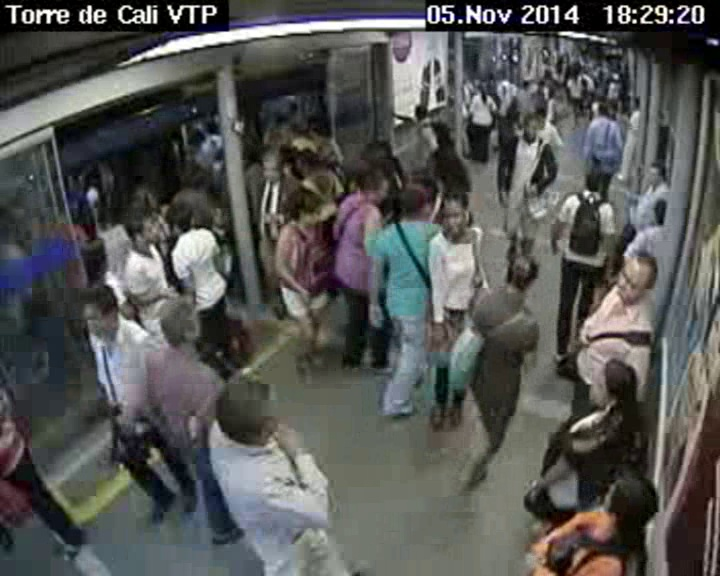person: (206, 369, 281, 451), (596, 465, 661, 532), (584, 352, 644, 413), (71, 279, 123, 348), (155, 295, 206, 358), (608, 250, 657, 302), (434, 187, 475, 245), (500, 251, 545, 294), (281, 186, 326, 229), (76, 234, 112, 279), (394, 180, 438, 216), (122, 211, 160, 250), (163, 200, 195, 239), (362, 163, 394, 202), (260, 146, 289, 181), (434, 123, 461, 156), (299, 147, 323, 179), (643, 158, 668, 185), (520, 112, 542, 141), (304, 122, 332, 144), (652, 197, 671, 224), (580, 165, 598, 193), (411, 102, 431, 121), (596, 102, 611, 119), (474, 82, 488, 99), (633, 93, 643, 113), (493, 67, 507, 81), (535, 79, 547, 93), (570, 65, 580, 80), (519, 77, 529, 91), (547, 87, 558, 98)
